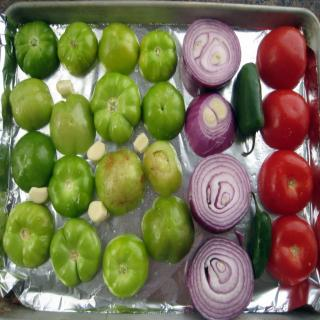tomato: (258, 150, 312, 217), (268, 216, 317, 287), (257, 26, 306, 91), (259, 92, 309, 150)
